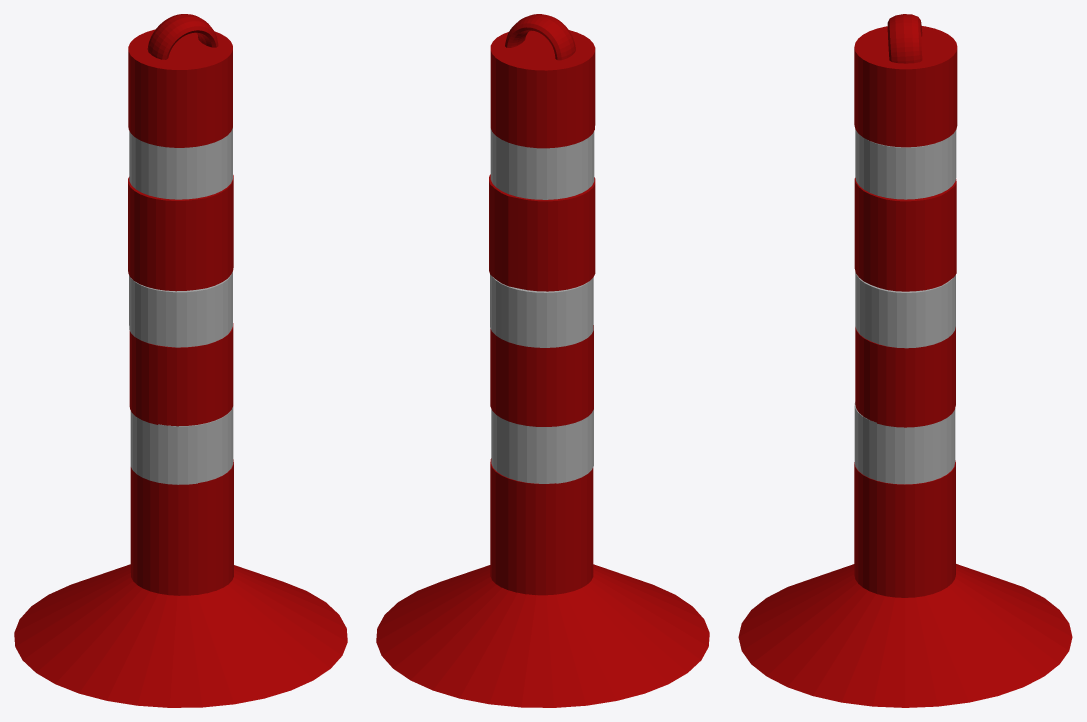
File: gomu_pole.obj
3 views of the same model, side by side, from view 1: azimuth 30°, elevation 25°; view 2: azimuth 150°, elevation 25°; view 3: azimuth 270°, elevation 25° (orthographic).
Parts seen in each view (by area): view 1: Cube; view 2: Cube; view 3: Cube.
Boxes of the visible parts, x1,y1,x2,y2 form: Cube: (14,14,347,707); Cube: (376,14,709,707); Cube: (738,14,1072,707).
Size of the model in its own units: 1.35 by 2.76 by 1.35.
